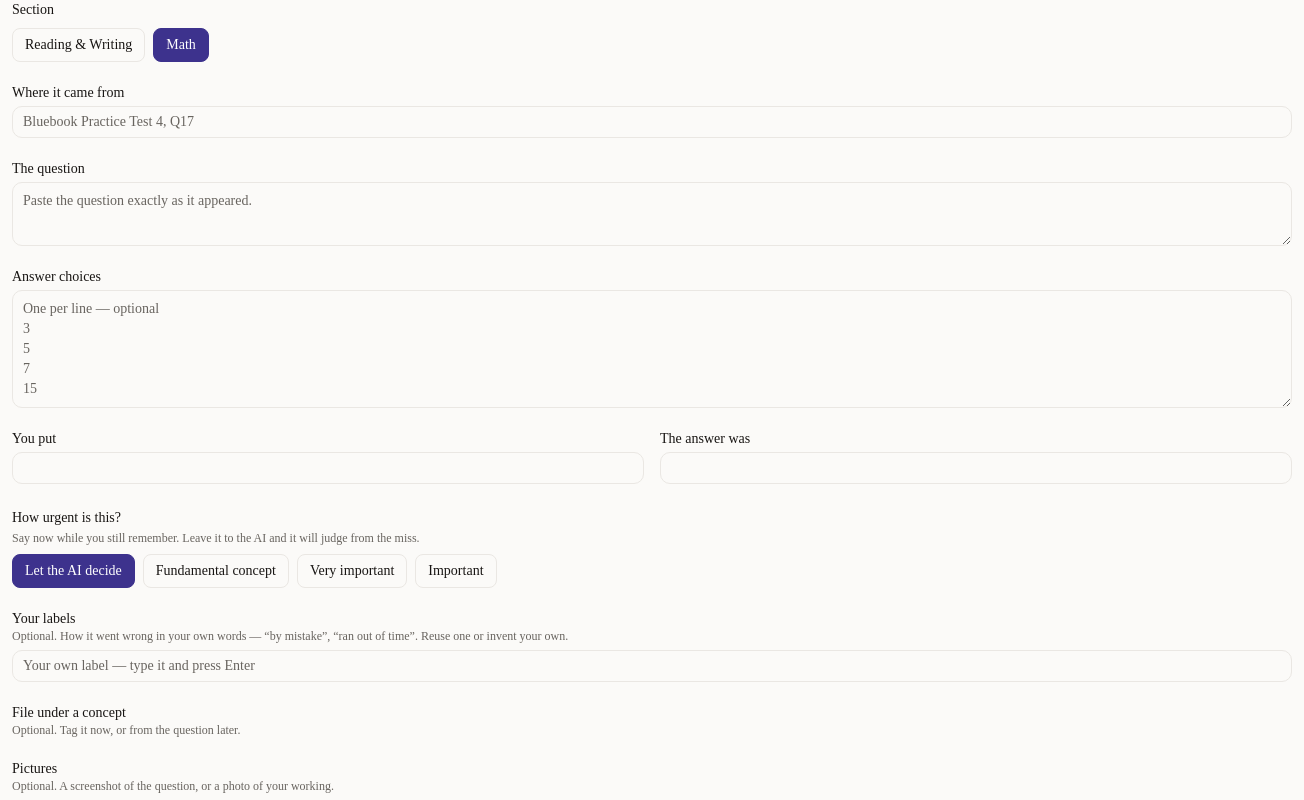
MistakeForm pictures › will not save a question that is missing its answers
Type "Only the question" into the text box labelled "The question" at (652, 214), box top-left (12, 182), bottom-right (1292, 246)
(page scrolled)
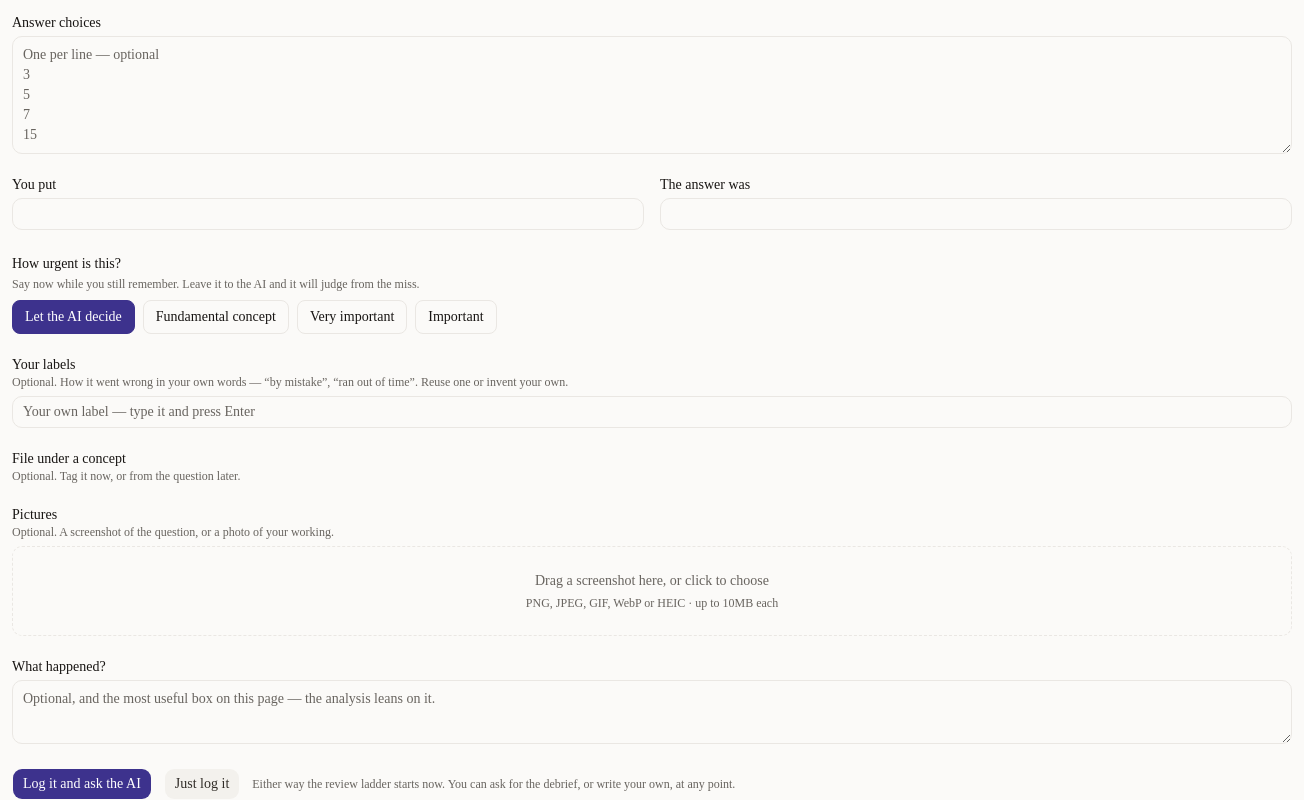
Click the button "Log it and ask the AI" at (82, 784), box top-left (12, 768), bottom-right (152, 799)
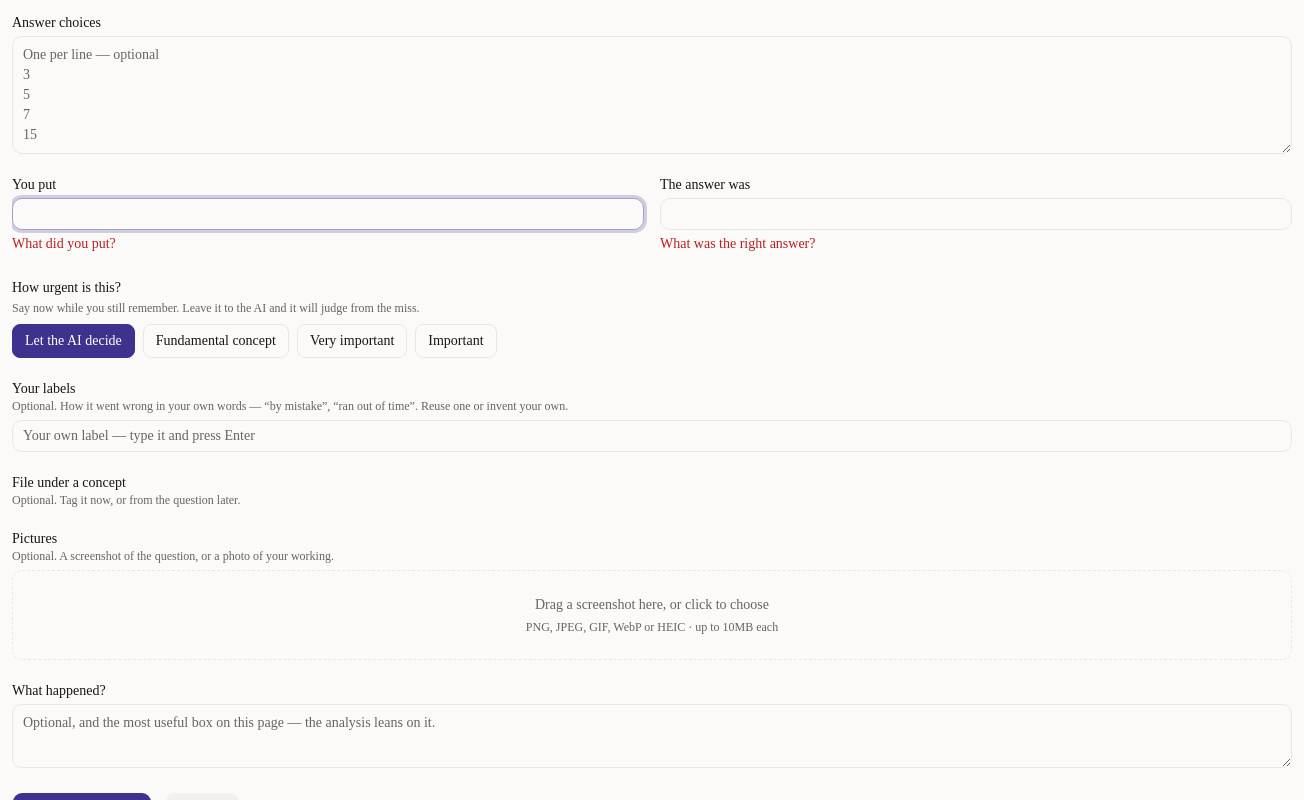
Expected: the text "What did you put?" is shown, top-left (12, 236), bottom-right (116, 251)
